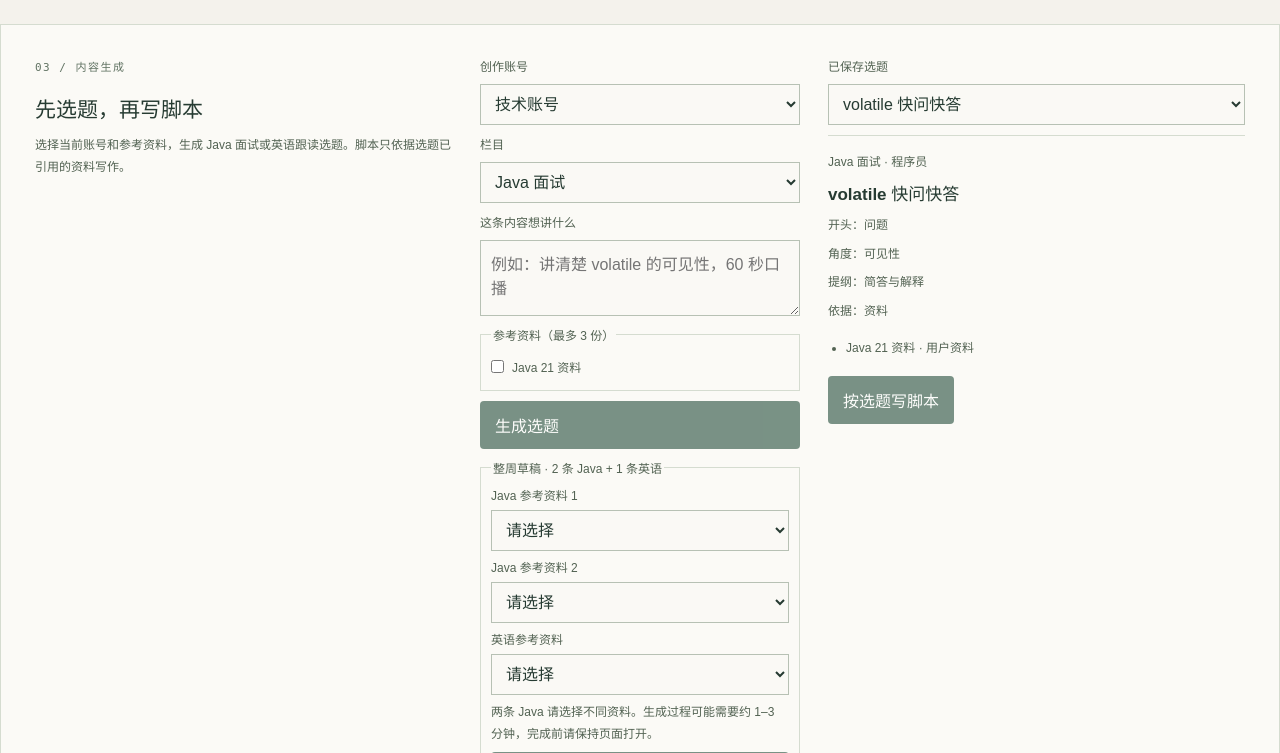
Test: content generation page › shows a missing-evidence failure without claiming a saved draft
Type "找一份不存在的资料" into the text box with id "generation-instruction" at (640, 278), box 480,240 -> 800,316
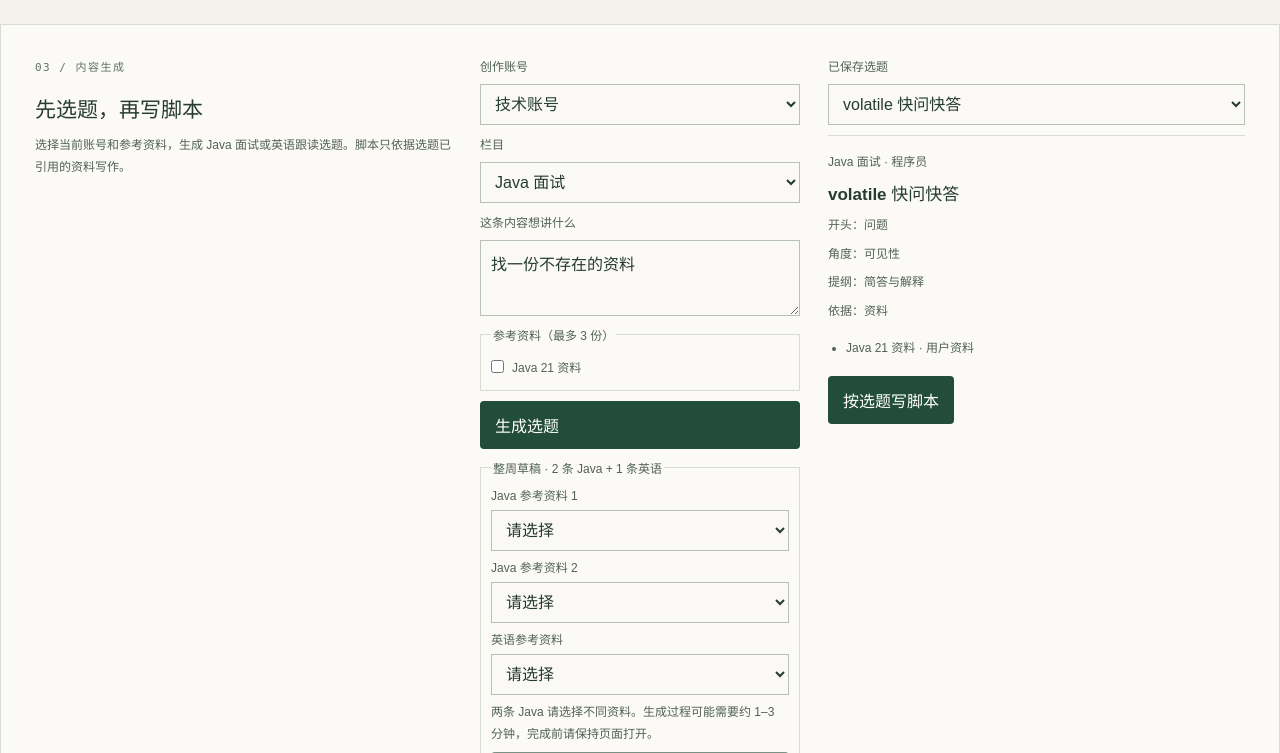
Click the button "生成选题" at (527, 426), box 480,401 -> 800,449
(page scrolled)
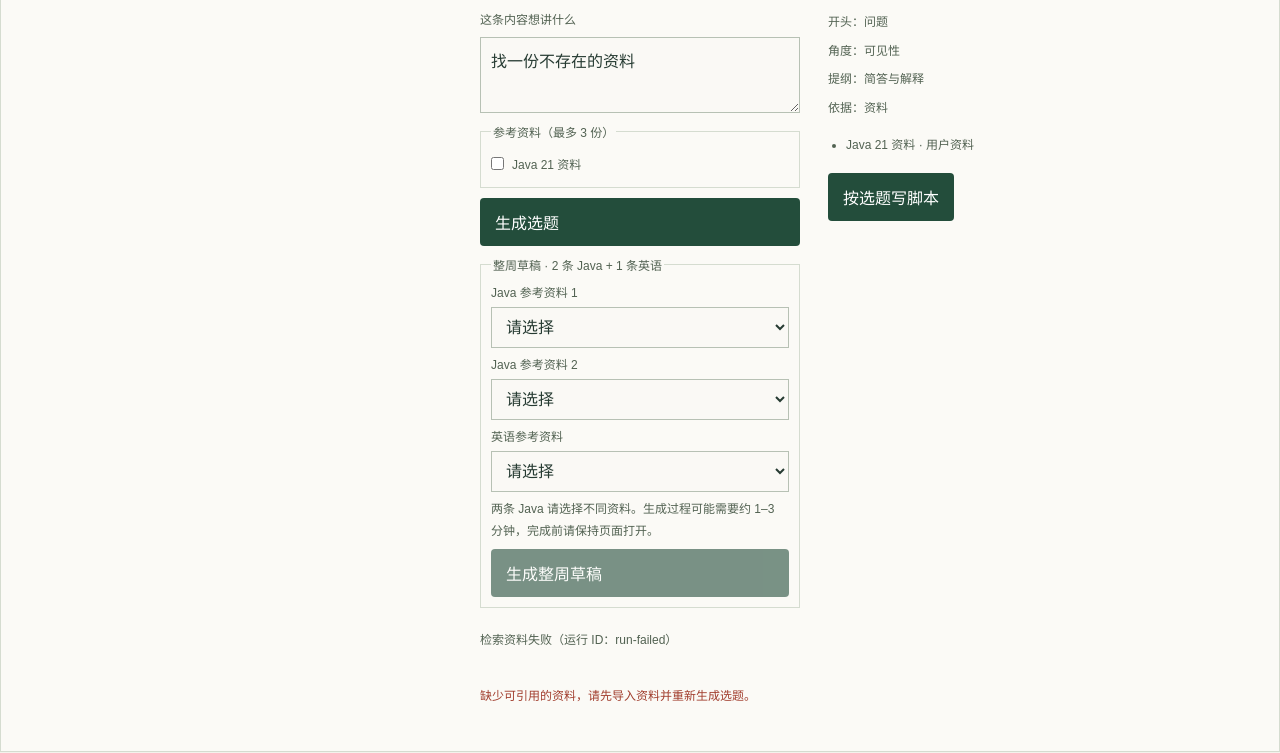
Expected: the message "缺少可引用的资料，请先导入资料并重新生成选题。" is shown, 480,686 -> 800,707
Expected: the message "检索资料失败（运行 ID：run-failed）" is shown, 480,633 -> 677,647
